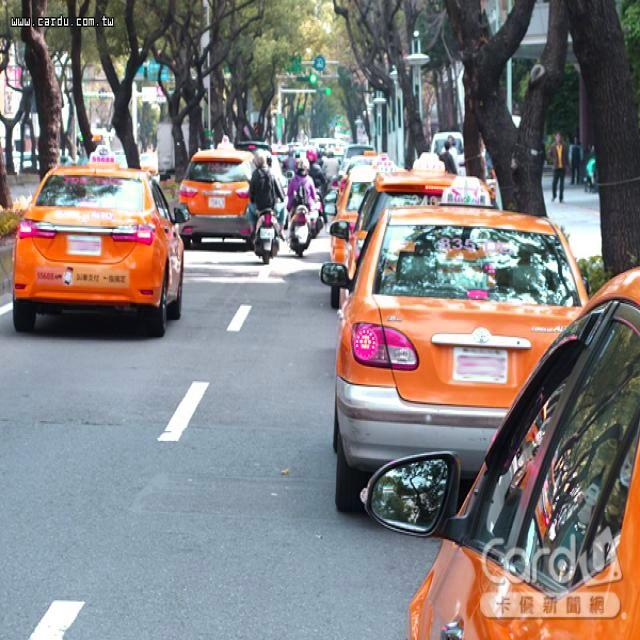taxi: (330, 256, 640, 640), (335, 189, 619, 510), (16, 135, 184, 372), (173, 128, 271, 270)
